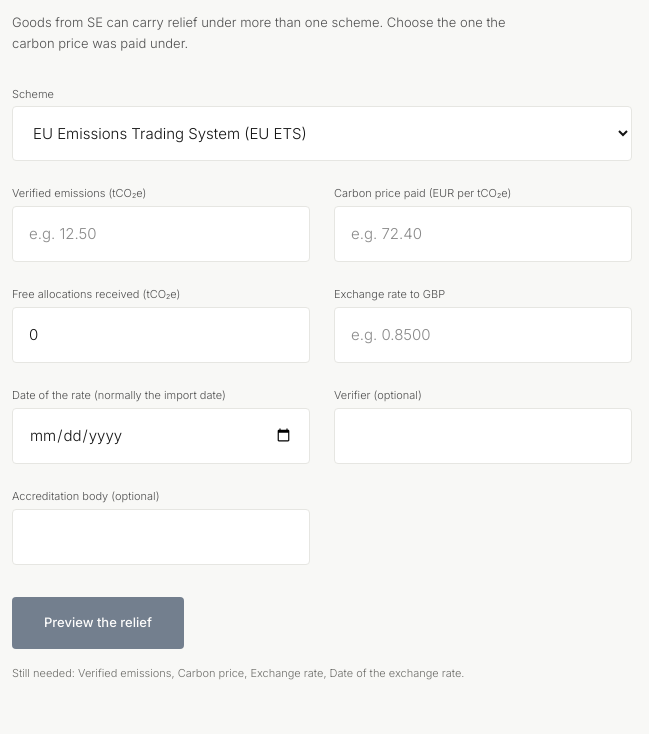
Test: LineRelief › HMRC's exchange rate › fills in the rate HMRC published for the month, and names it
In the date field named "Date of the exchange rate": (161, 436) [12,408,310,464], type "2027-04-15"
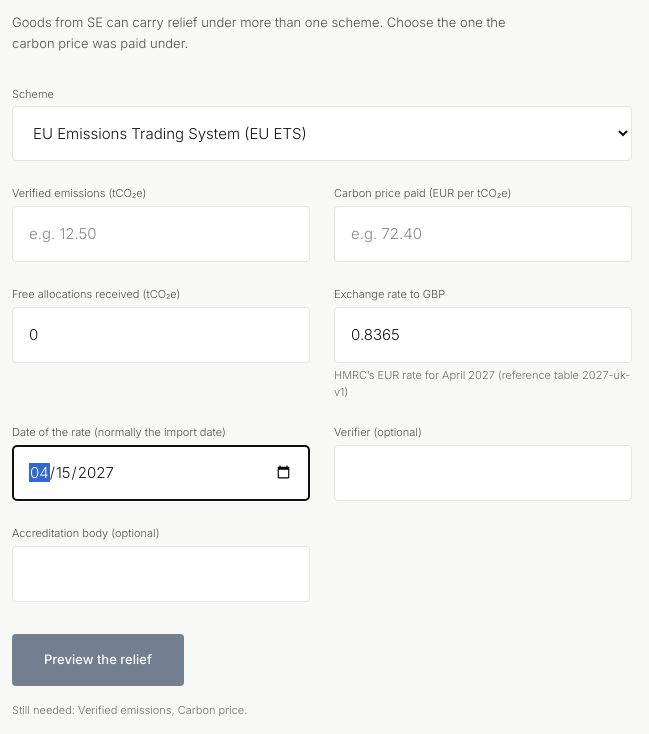
Expected: the text "HMRC’s EUR rate for April 2027 (reference table 2027-uk-v1)" is shown, [334,367,632,400]
Expected: the number field named "Exchange rate" holds "0.8365", [334,307,632,363]
